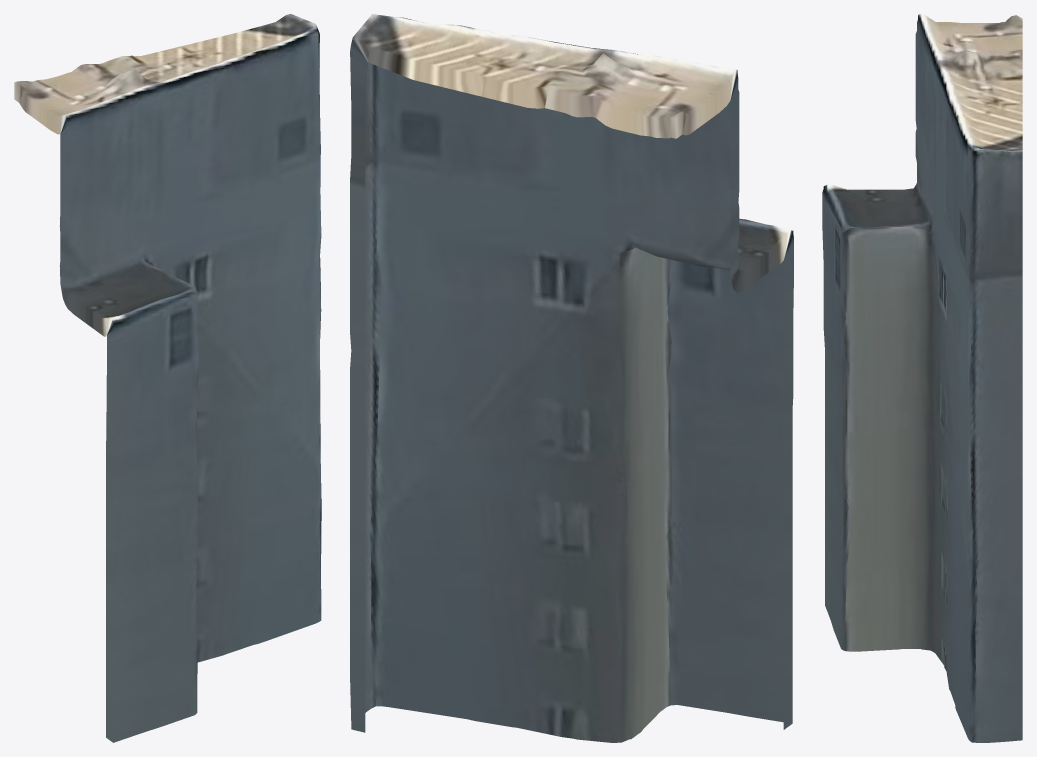
Rendered from z20-167753-405243-h1-yup-uvflip-v3-world.glb.
The picture shows the model from 3 angles, left to right: view 1: azimuth 30°, elevation 25°; view 2: azimuth 150°, elevation 25°; view 3: azimuth 270°, elevation 25°; orthographic projection. The views are drawn at different scales.
Size of the model in its own units: 10.52 by 21.28 by 6.44.
Materials: 1 (1 with a texture image).
